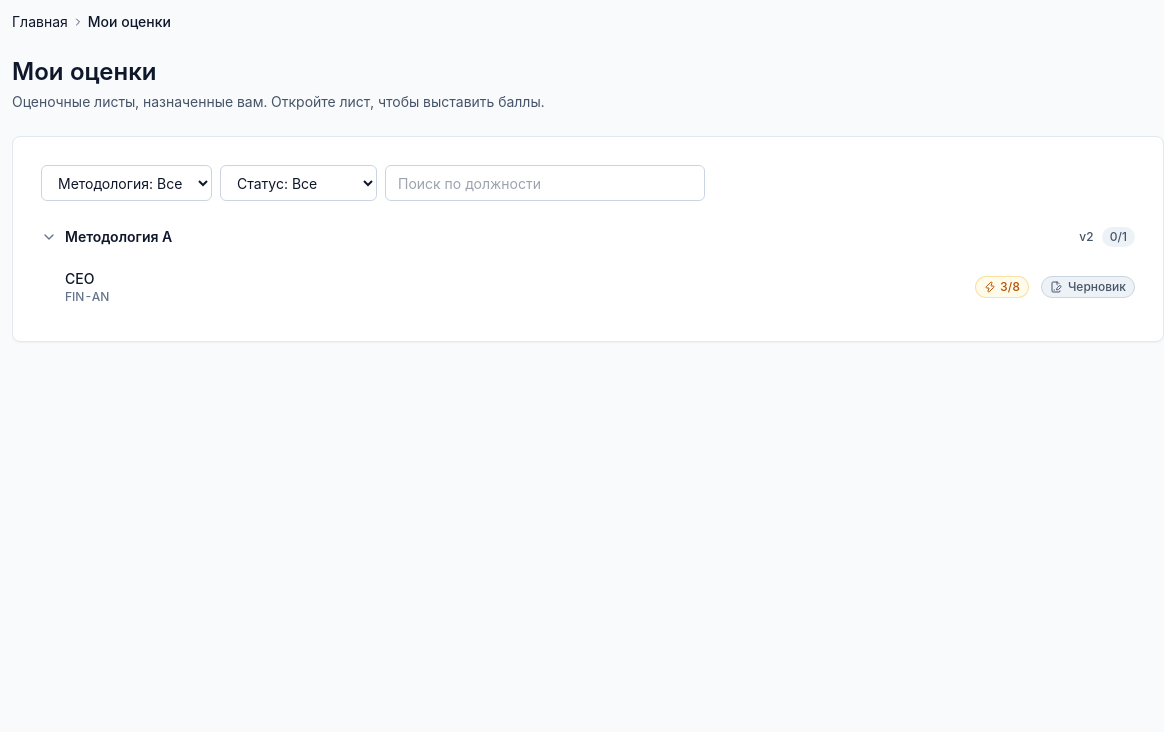
Test: <MyEvaluationsPage /> (Feature 1 + Part 4) › shows no-match state when all rows are filtered out
Step 1. Type "zzz-not-a-real-position" into the search field with test id "my-evaluations-filter-search" → (545, 183), box 385,165 -> 705,201
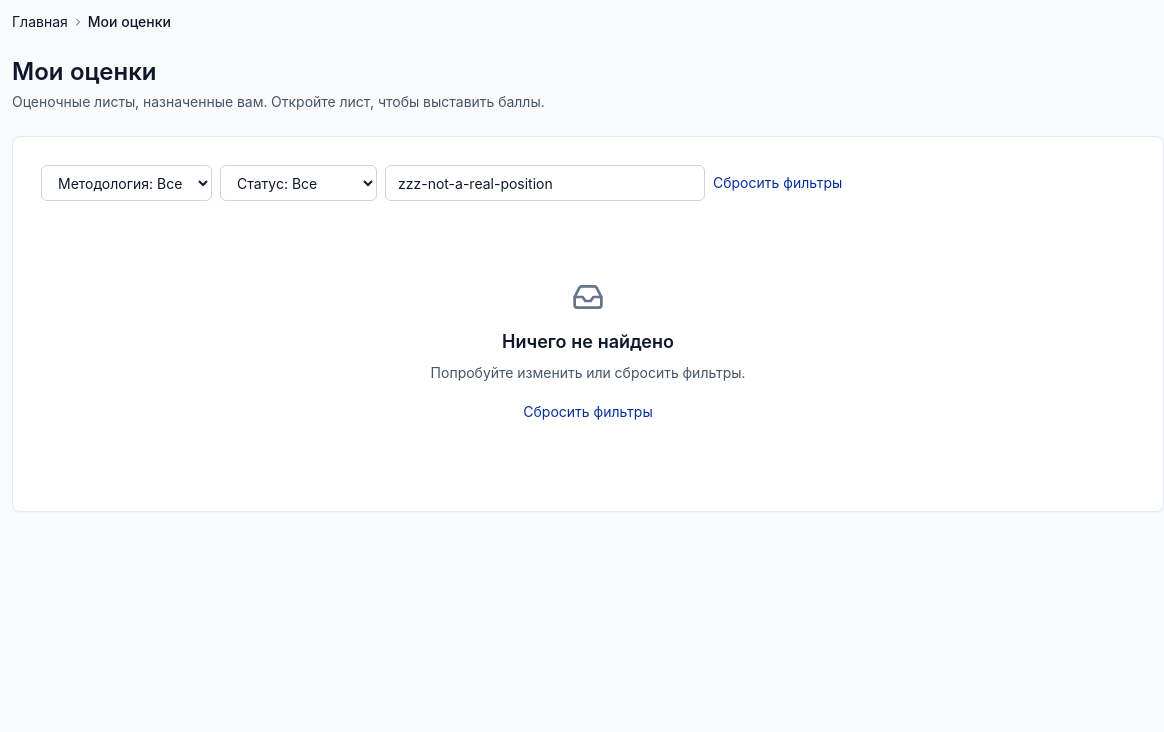
Expected: the element with test id "my-evaluations-filter-bar" is shown, 41,165 -> 842,201
Result: the button with test id "my-evaluations-filter-clear" is shown at 713,173 -> 842,193
Result: the link with test id "open-my-evaluation-eval-nm1" is gone
